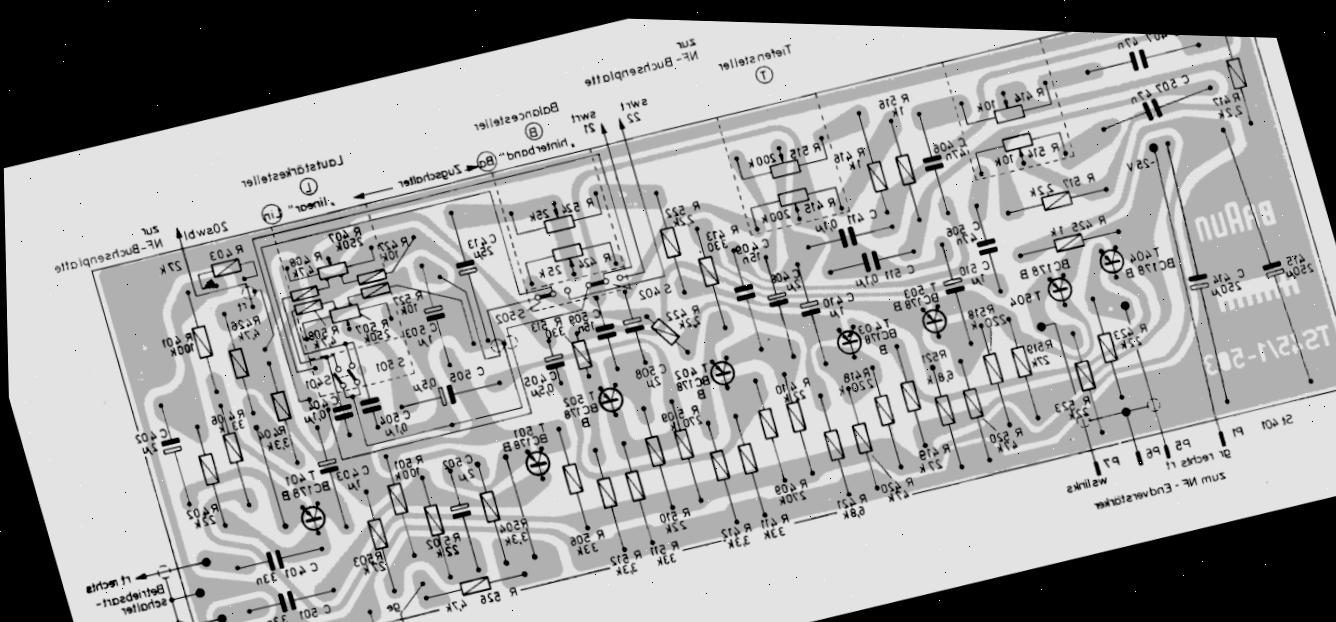compo_name: (572, 28, 710, 97), (963, 68, 1057, 125), (464, 92, 563, 140), (708, 32, 801, 83), (755, 185, 843, 233), (1118, 61, 1199, 112), (389, 150, 476, 196), (86, 573, 174, 618), (440, 578, 520, 622), (1006, 243, 1077, 291), (846, 253, 922, 297), (1117, 245, 1184, 288), (175, 492, 233, 541), (272, 471, 338, 509), (1058, 200, 1117, 241), (1056, 462, 1116, 502), (107, 589, 175, 622), (655, 291, 710, 330), (176, 209, 235, 245), (694, 216, 746, 256), (739, 139, 795, 175), (851, 313, 900, 352), (549, 299, 605, 333), (565, 241, 619, 276), (888, 286, 947, 318), (277, 550, 328, 587), (867, 80, 918, 117), (907, 430, 958, 467), (831, 369, 883, 404), (1058, 157, 1106, 194), (439, 356, 491, 390), (420, 523, 471, 557), (1015, 169, 1063, 205), (727, 225, 779, 258), (624, 351, 673, 386), (154, 327, 200, 364), (281, 186, 334, 218), (365, 344, 414, 378), (811, 280, 860, 314), (201, 233, 251, 266), (764, 468, 814, 501), (1002, 278, 1049, 313), (328, 454, 379, 486), (348, 552, 395, 586), (1117, 144, 1161, 180), (830, 355, 878, 388), (455, 221, 504, 253), (947, 249, 997, 280), (1120, 235, 1168, 267), (488, 507, 534, 540), (483, 297, 530, 329), (371, 410, 418, 442), (257, 428, 301, 462), (941, 220, 989, 251), (826, 146, 871, 179), (1201, 273, 1247, 305), (784, 135, 830, 167), (527, 126, 576, 156), (558, 189, 601, 223), (657, 192, 704, 223), (128, 416, 175, 447), (435, 444, 482, 475), (981, 419, 1028, 450), (667, 307, 711, 340), (292, 592, 340, 622), (839, 200, 884, 232), (368, 399, 414, 430), (610, 85, 656, 116), (346, 543, 395, 572), (1172, 443, 1219, 473), (653, 497, 698, 528), (396, 313, 442, 343), (957, 292, 1001, 323), (895, 272, 942, 301), (1205, 261, 1252, 290), (630, 274, 671, 307), (505, 414, 550, 444), (1204, 81, 1249, 111), (1017, 328, 1059, 360), (517, 362, 562, 391), (1279, 256, 1322, 286), (495, 523, 535, 555), (804, 208, 845, 239), (936, 212, 978, 242), (252, 415, 294, 445), (1126, 33, 1189, 53), (222, 306, 264, 336), (523, 310, 568, 338), (1022, 134, 1065, 163), (956, 262, 999, 291), (511, 427, 554, 456), (520, 197, 563, 226), (297, 317, 343, 344), (278, 460, 318, 491), (558, 398, 602, 426), (565, 523, 609, 551), (497, 135, 539, 164), (555, 381, 597, 410), (1210, 98, 1252, 127), (521, 376, 561, 406), (936, 140, 977, 169), (927, 361, 965, 392), (386, 446, 428, 474), (830, 487, 872, 515), (915, 338, 954, 368), (1045, 388, 1084, 418), (925, 126, 966, 154), (667, 354, 708, 382), (324, 218, 365, 246), (913, 450, 954, 478), (369, 230, 413, 256), (1109, 331, 1147, 361), (297, 366, 337, 394), (388, 460, 428, 488), (773, 483, 813, 511), (246, 563, 283, 593), (352, 310, 393, 337), (405, 369, 443, 398), (1103, 315, 1141, 344), (981, 306, 1019, 335), (566, 535, 603, 564), (876, 473, 917, 499), (468, 239, 506, 267), (562, 99, 601, 126), (1022, 345, 1061, 372), (816, 296, 855, 323), (387, 281, 429, 306), (762, 259, 799, 287), (401, 328, 438, 356), (755, 508, 793, 535), (615, 102, 653, 129), (227, 320, 266, 346), (717, 517, 756, 543), (436, 539, 472, 567), (359, 320, 395, 348), (531, 255, 567, 283), (606, 545, 646, 570), (657, 514, 695, 540), (645, 535, 684, 560), (280, 260, 317, 286), (1165, 428, 1199, 456), (784, 369, 819, 396), (296, 402, 333, 427), (226, 398, 254, 431), (986, 146, 1020, 173), (608, 558, 643, 584), (733, 246, 769, 271), (991, 434, 1027, 459), (375, 592, 408, 619), (1067, 400, 1101, 426), (336, 473, 369, 499), (279, 246, 316, 269), (329, 233, 367, 255), (1095, 446, 1127, 472), (669, 209, 702, 234), (640, 368, 669, 396), (389, 296, 421, 321), (292, 388, 324, 413), (651, 546, 684, 570), (685, 369, 716, 394), (780, 273, 811, 297), (785, 380, 817, 403), (679, 397, 707, 423), (203, 407, 227, 437), (1137, 438, 1167, 462), (871, 336, 898, 362), (676, 408, 706, 431), (669, 373, 696, 397), (255, 605, 293, 622), (311, 333, 343, 353), (139, 231, 167, 253), (1281, 249, 1309, 271), (690, 381, 715, 405), (320, 385, 345, 408), (578, 115, 605, 136), (311, 247, 338, 266), (661, 410, 685, 431), (654, 405, 676, 426)
